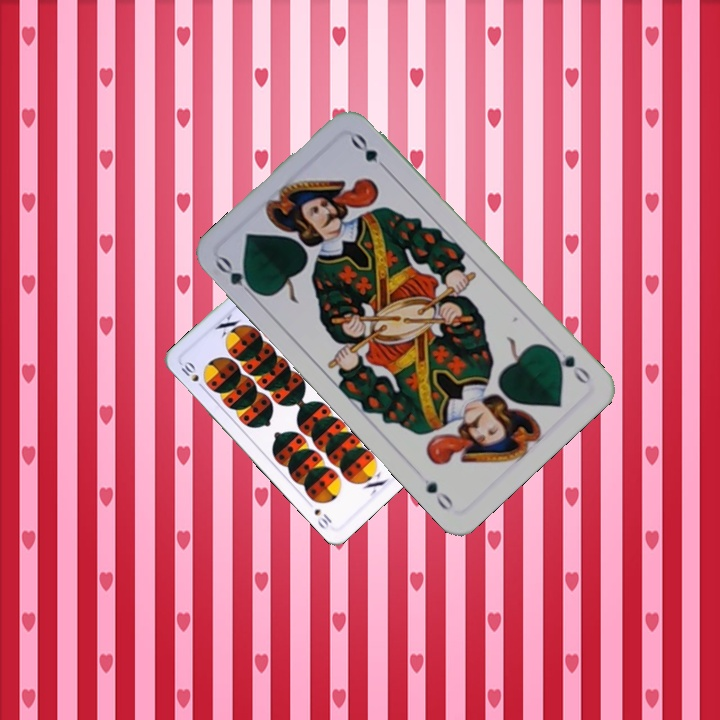GO: (211, 252, 262, 302), (545, 343, 594, 387)
S10: (177, 357, 207, 392)
